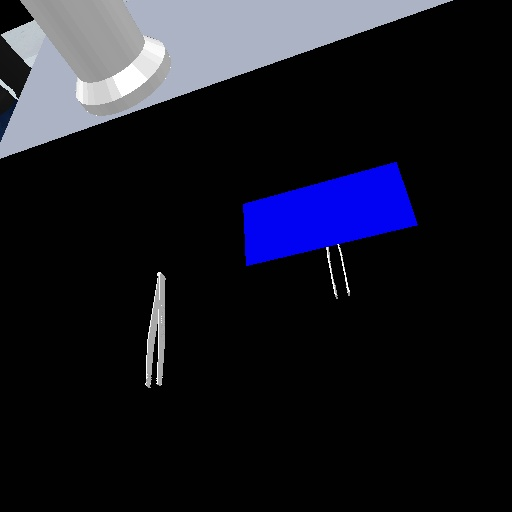pinza: (139, 268, 172, 391), (321, 240, 355, 301)
